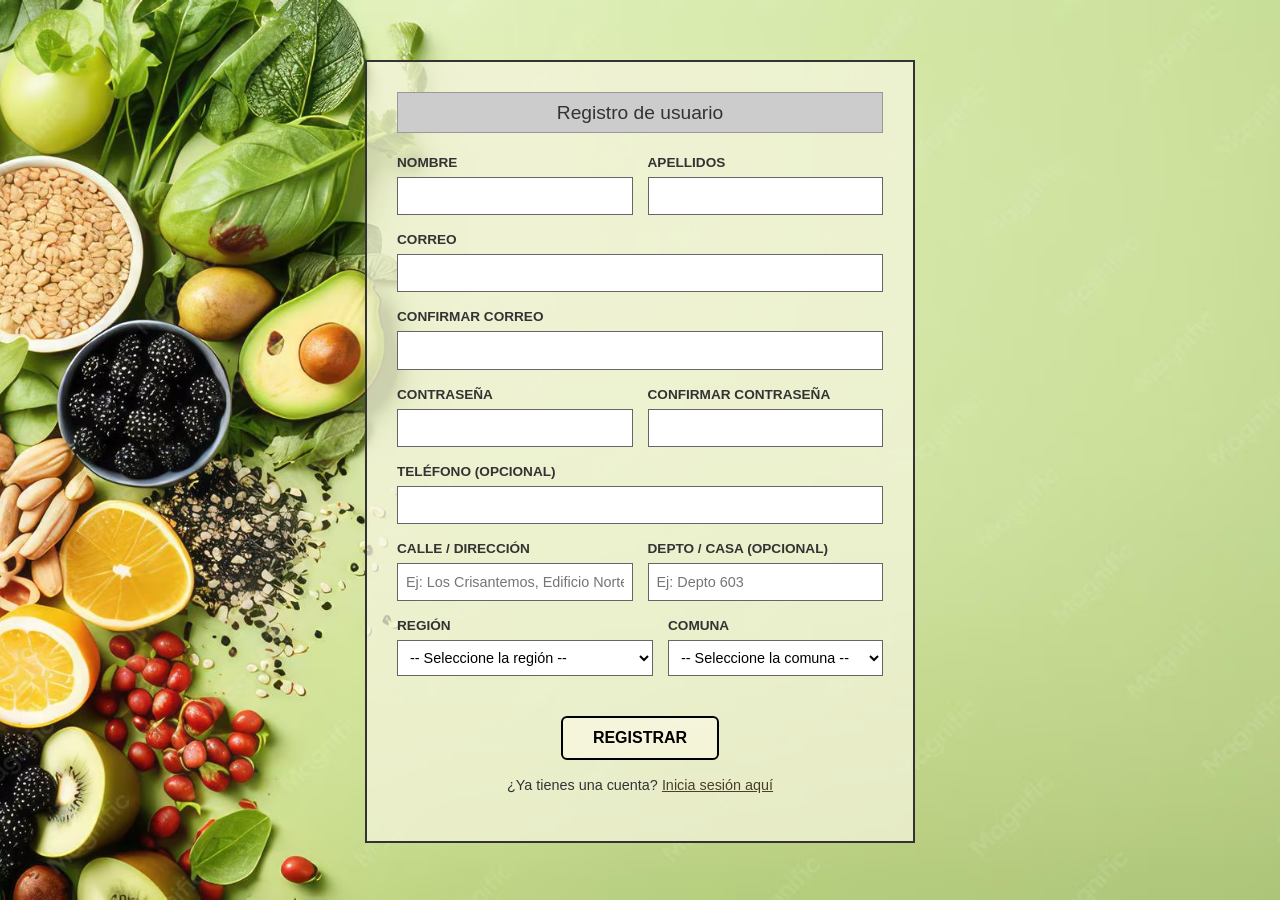
Test: Registro (validaciones) › muestra error si la contraseña tiene menos de 6 caracteres
Type "Ana" into the field labelled "NOMBRE" at {"x": 515, "y": 196}, box [397,177,632,215]
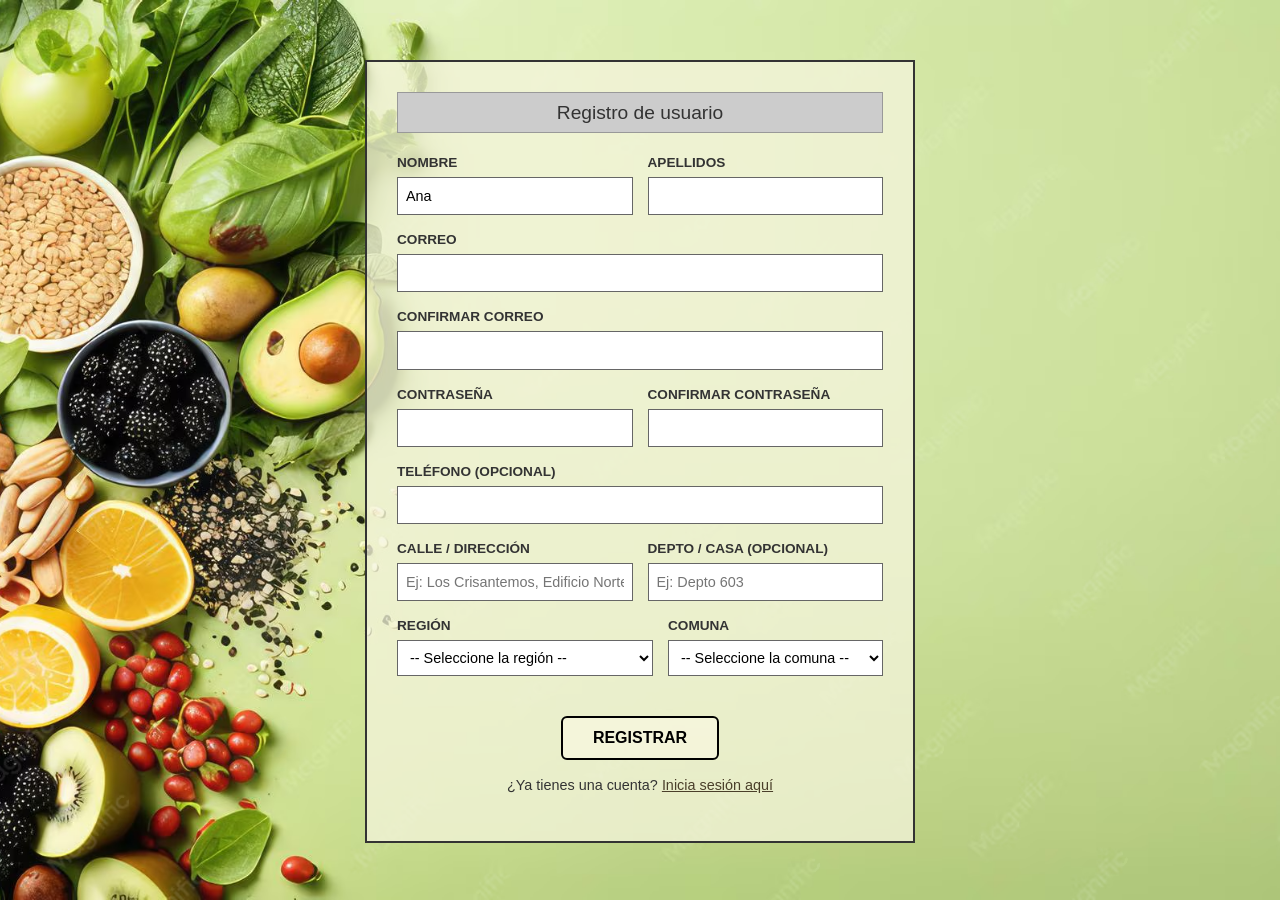
Type "ana@duoc.cl" into the field labelled "CORREO" at {"x": 640, "y": 273}, box [397,254,883,292]
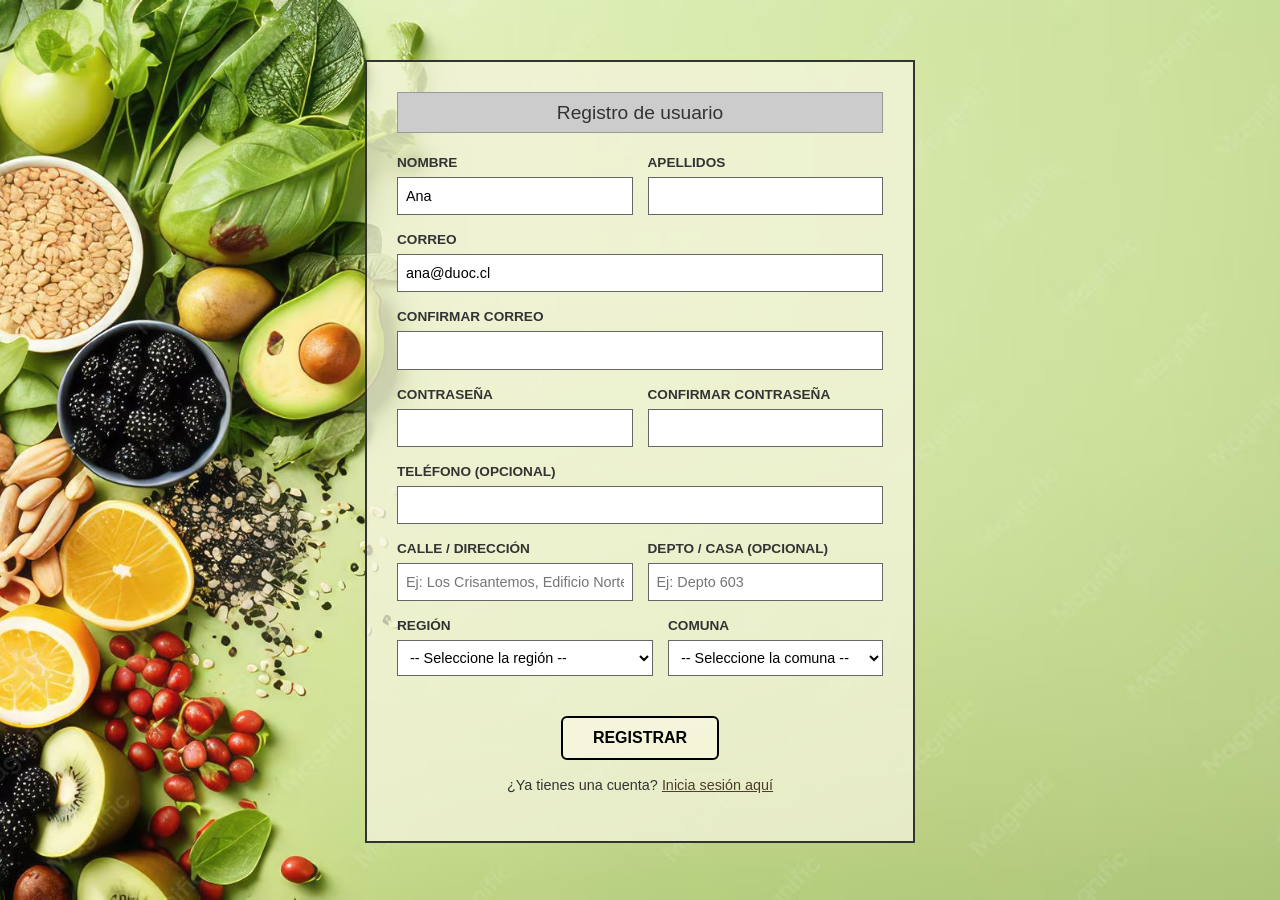
Type "ana@duoc.cl" into the field labelled "CONFIRMAR CORREO" at {"x": 640, "y": 350}, box [397,331,883,370]
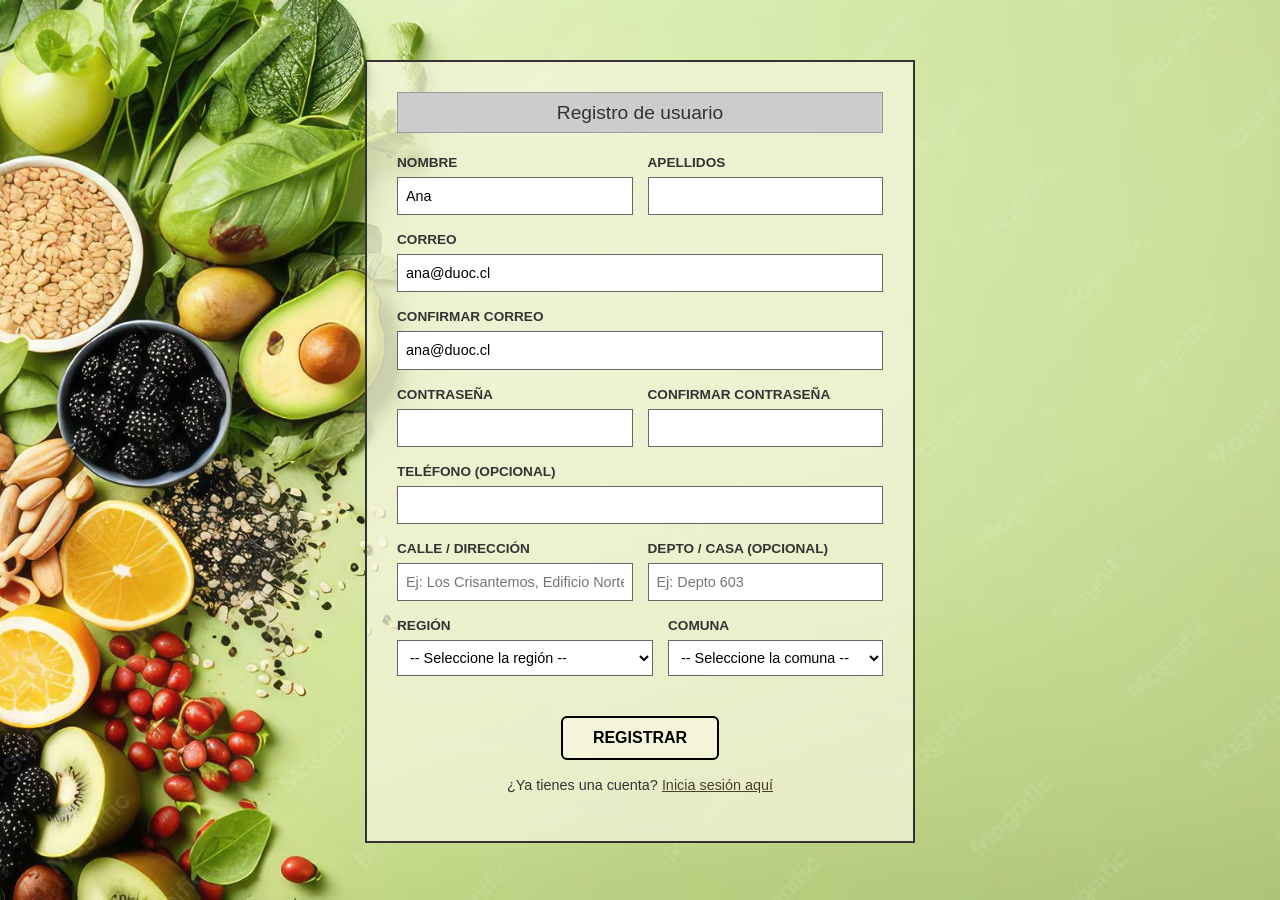
Type "123" into the password field labelled "CONTRASEÑA" at {"x": 515, "y": 428}, box [397,409,632,447]
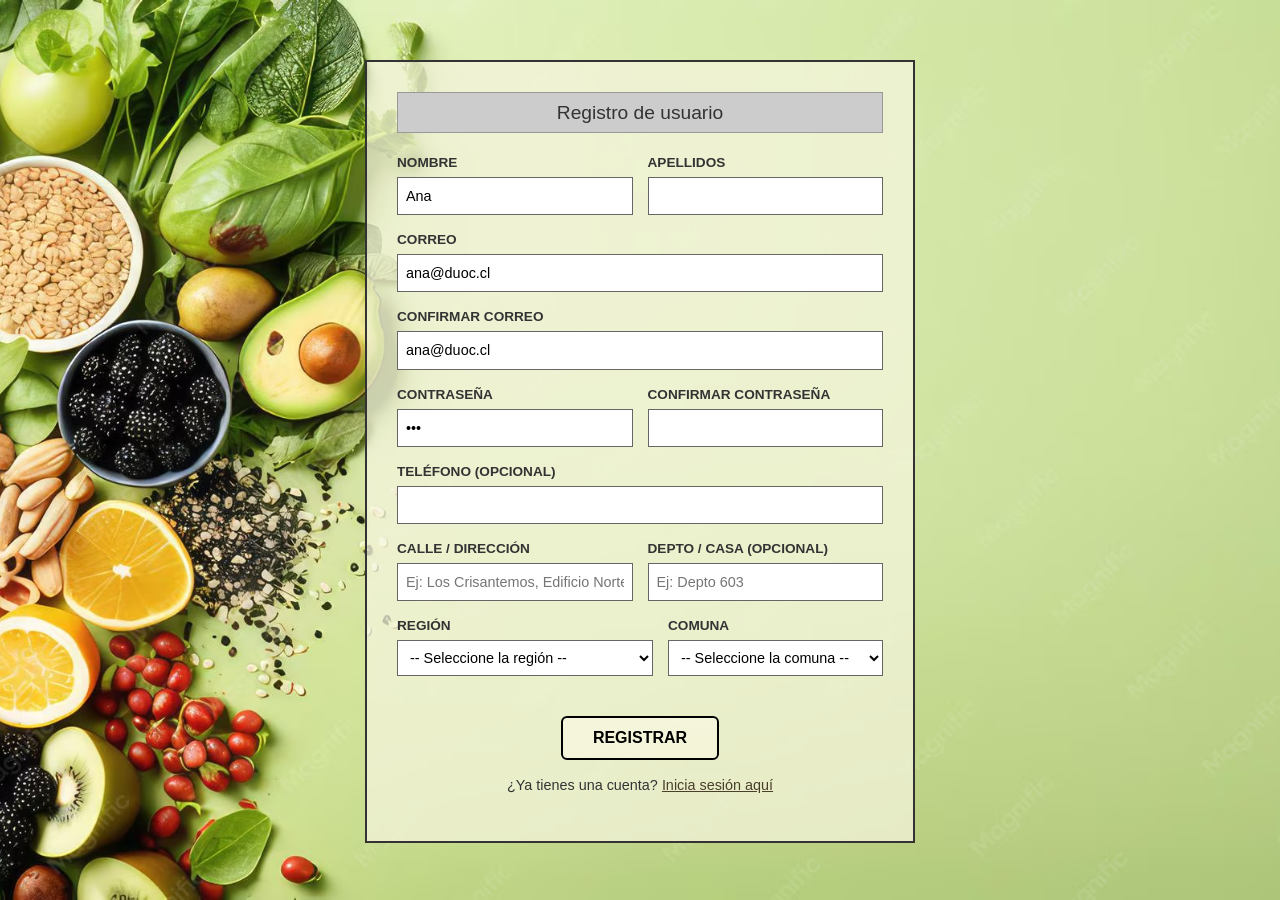
Submit the form with id "form-registro", box [397,153,883,795]
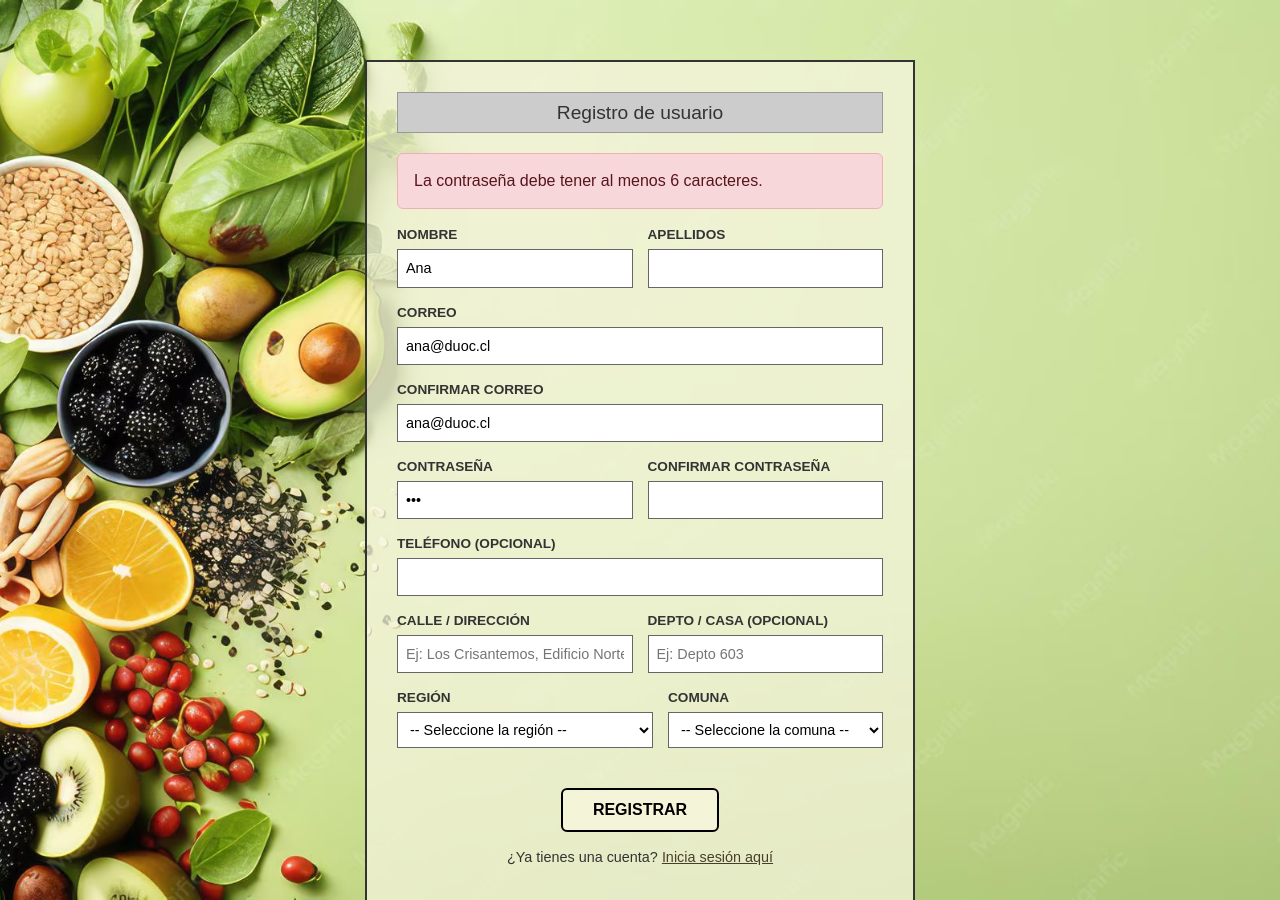
Expected: the message shows "al menos 6 caracteres", [414,172,763,189]
